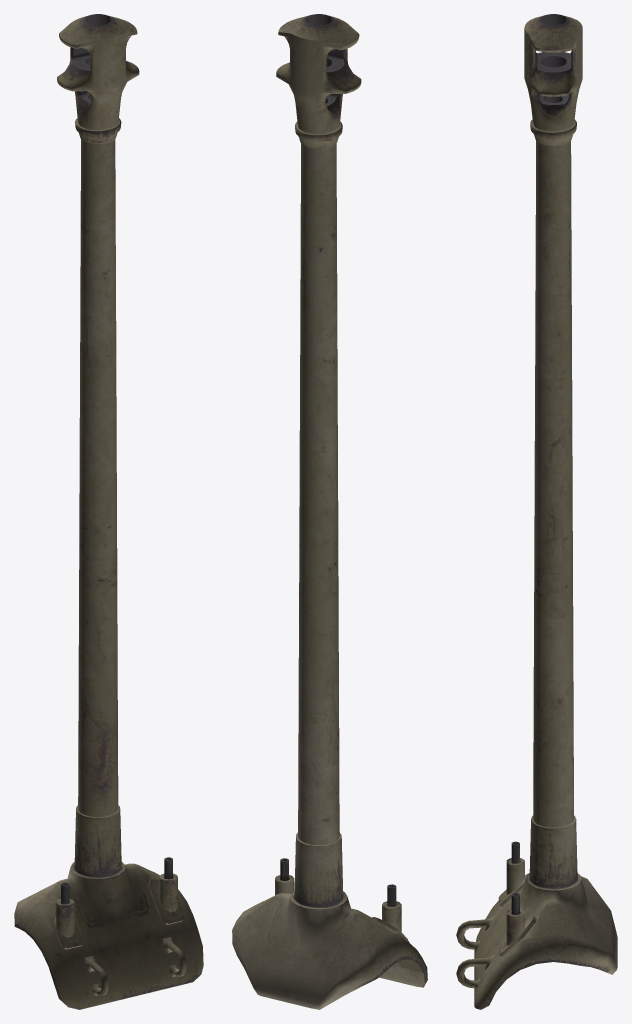
The model's file is Gun_01.glb.
3 renders of one model, left to right at view 1: azimuth 30°, elevation 25°; view 2: azimuth 150°, elevation 25°; view 3: azimuth 270°, elevation 25°, orthographic. The views are drawn at different scales.
Parts seen in each view (by area): view 1: set_0_group_0; view 2: set_0_group_0; view 3: set_0_group_0.
Boxes of the visible parts, bbox=[...] form: set_0_group_0: bbox=[14, 14, 203, 1009]; set_0_group_0: bbox=[232, 14, 427, 1009]; set_0_group_0: bbox=[456, 14, 617, 1009].
Bounding box in the file's own units: 0.9494 × 5.89 × 0.8951.
Materials: 1 (1 with a texture image).
